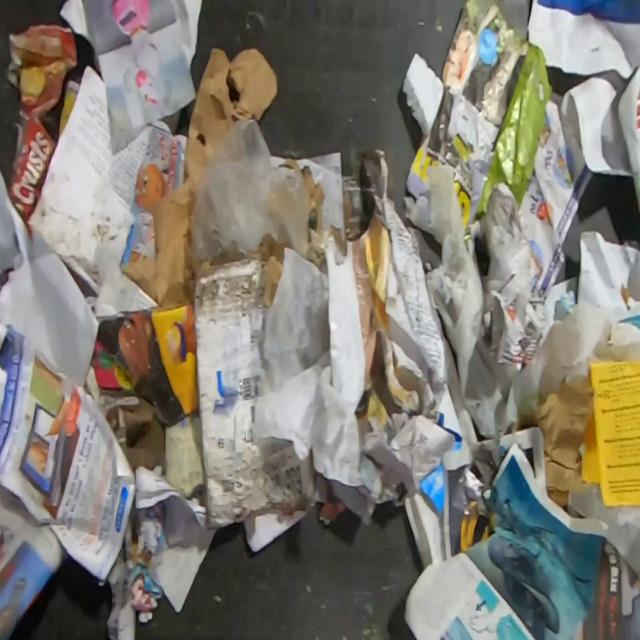cardboard: (121, 45, 278, 307), (191, 253, 316, 532), (2, 20, 103, 224), (95, 300, 200, 428), (578, 357, 640, 505), (163, 413, 206, 500), (243, 236, 286, 304)
soft_plastic: (402, 163, 640, 440), (252, 247, 367, 488), (189, 116, 315, 264), (566, 481, 639, 579)
